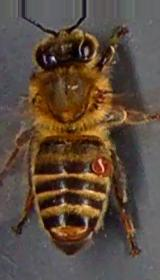varroa_mite: (85, 150, 116, 179)
